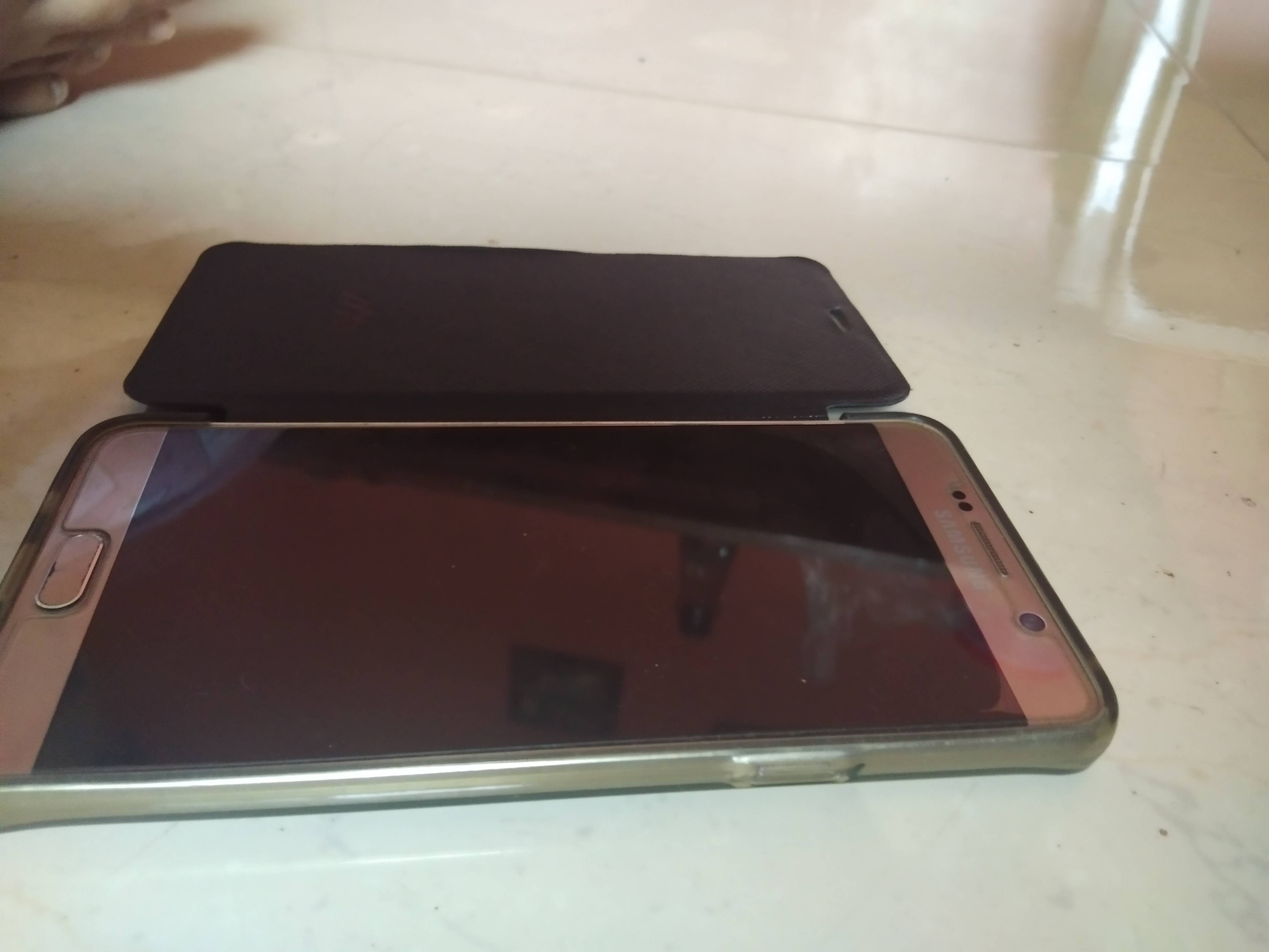Electronics: (0, 387, 1160, 847)
